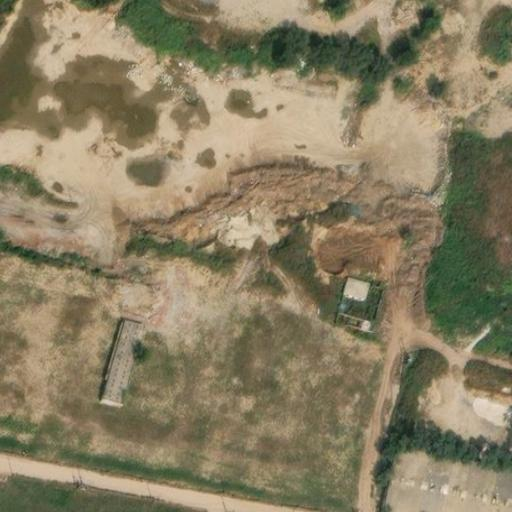building: (387, 440, 512, 512), (102, 311, 143, 398), (338, 272, 372, 302)
